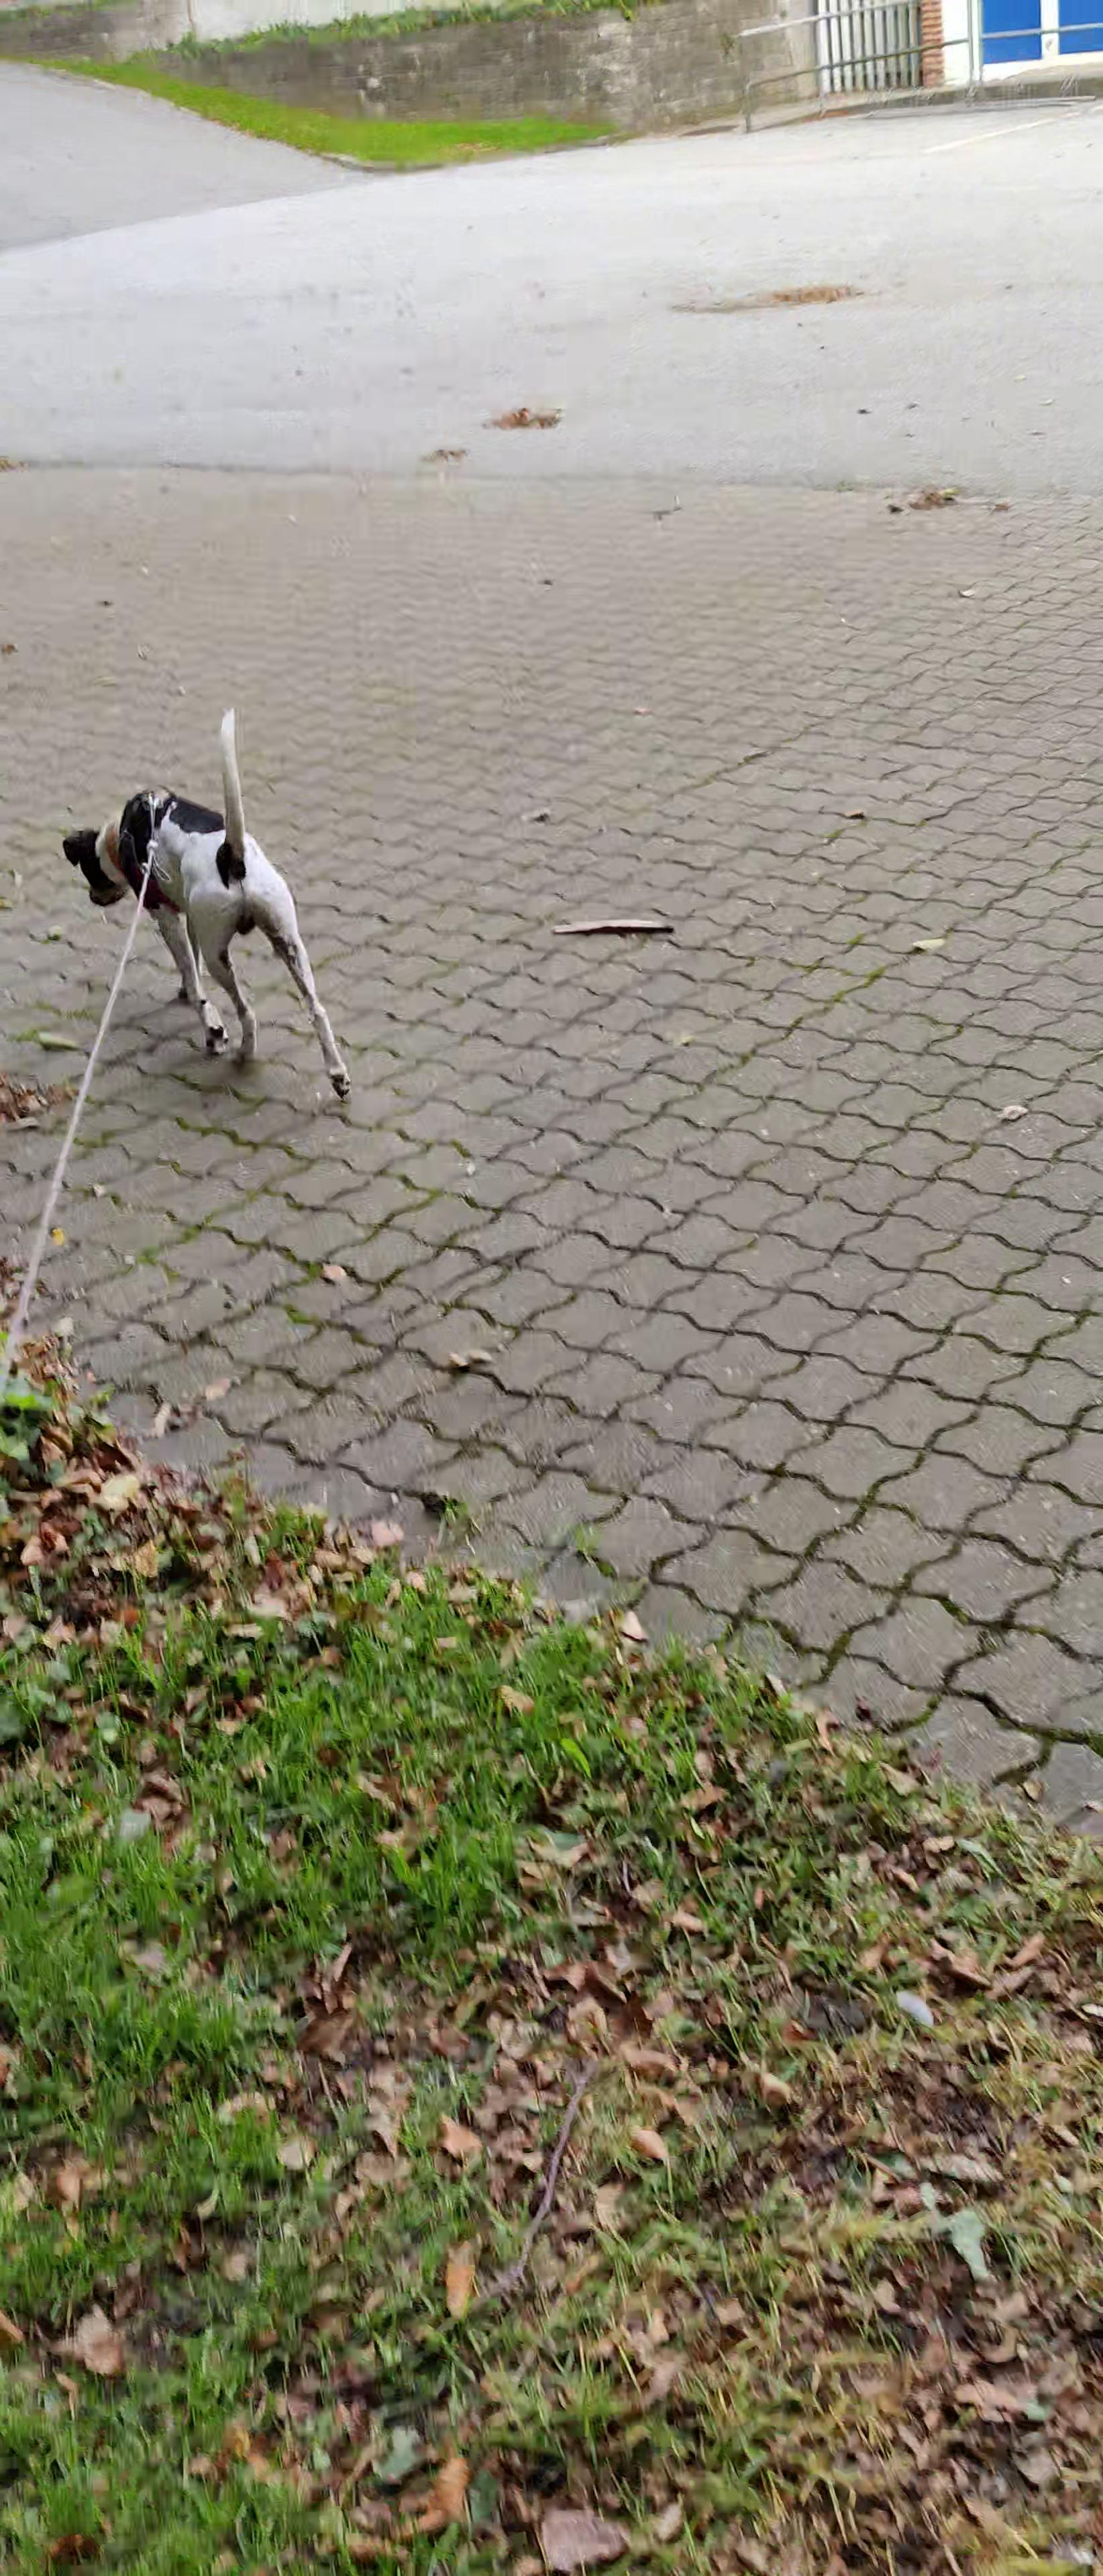Dog: (53, 701, 358, 1106)
